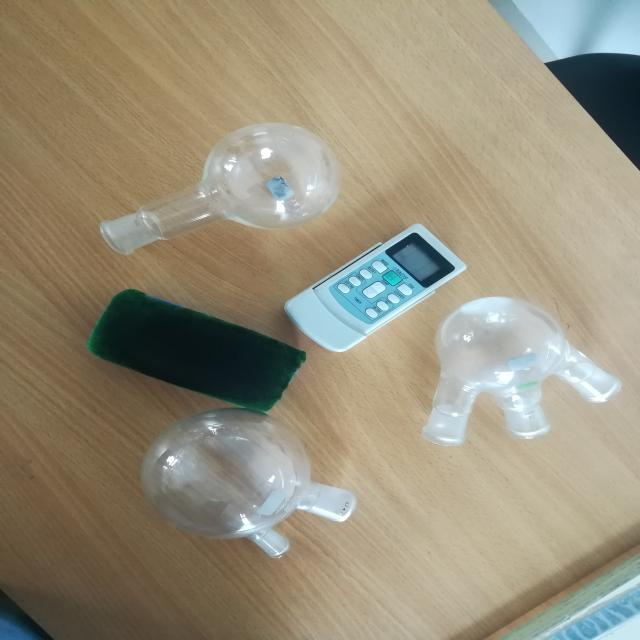Round_Bottom_Flask_Borosilicate_Glass_1_Neck: (58, 128, 372, 283)
Round_Bottom_Flask_Borosilicate_Glass_2_Neck: (86, 399, 382, 586)
Round_Bottom_Flask_Borosilicate_Glass_3_Neck: (404, 279, 640, 483)
